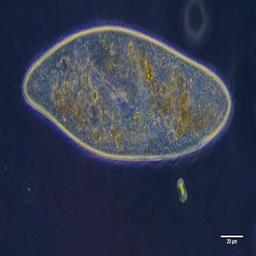Paramecium: (22, 28, 233, 161)
